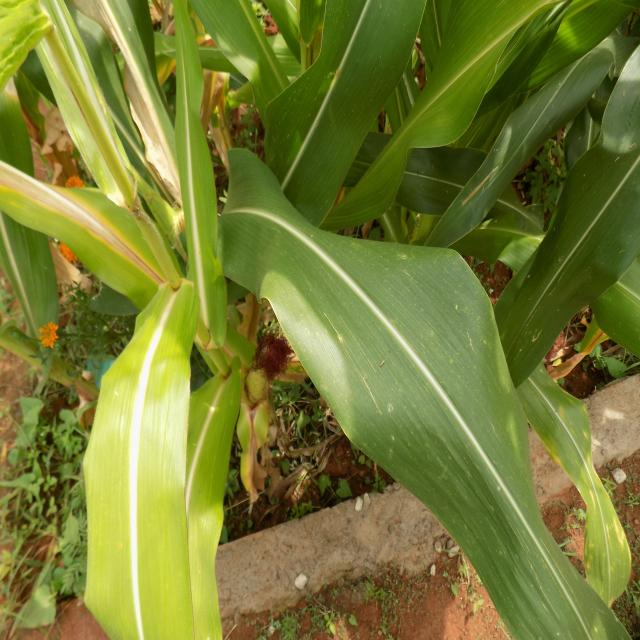millet_healthy: (212, 146, 640, 638), (80, 263, 206, 640)
